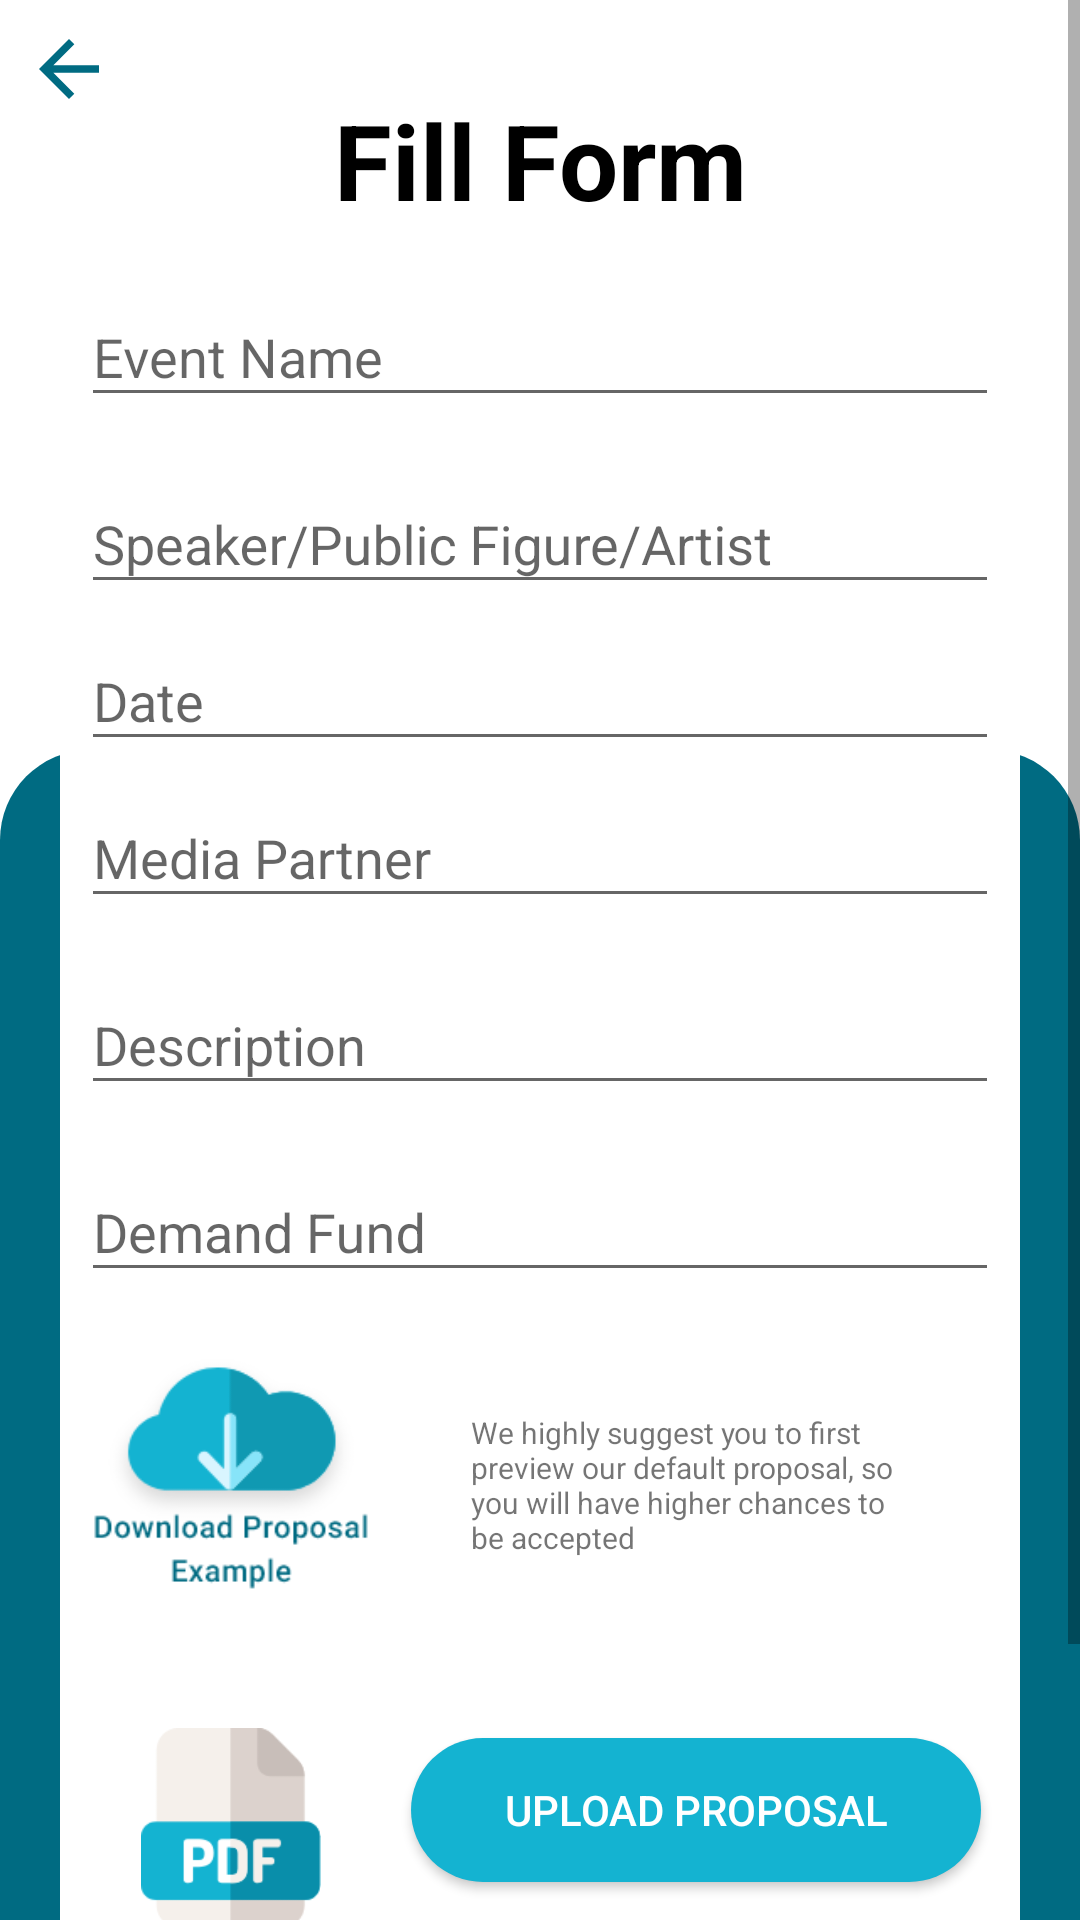

Icons on this 1080×1920 Android screen, each with its box as (x1, y1, x2, y2):
arrow back: (39, 39, 99, 99)
